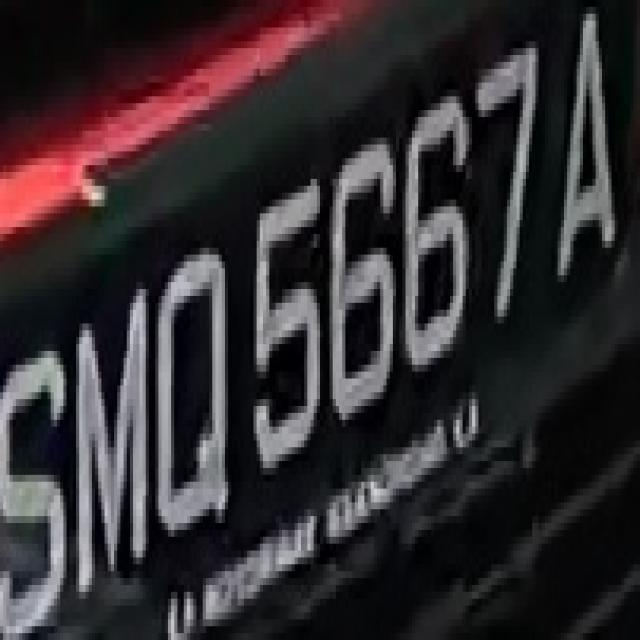5: (247, 179, 326, 489)
6: (396, 96, 472, 392), (333, 117, 402, 440)
7: (466, 28, 545, 344)
A: (548, 7, 634, 296)
M: (70, 296, 158, 619)
Q: (152, 227, 238, 564)
